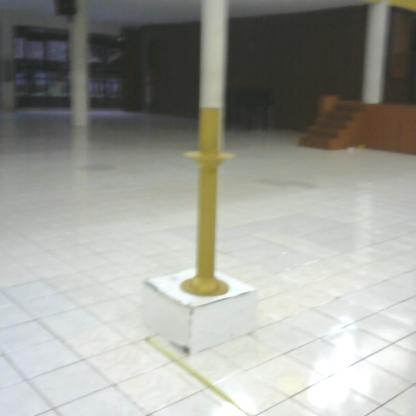pole: (174, 104, 241, 301)
